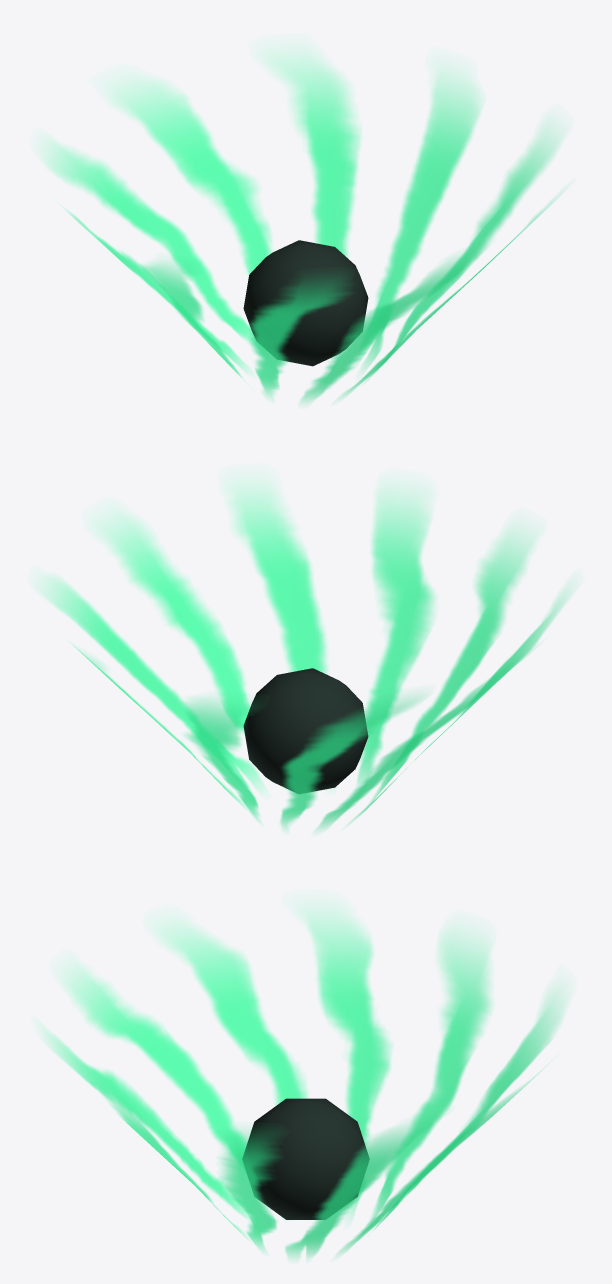
Rendered from fx_vortex.glb.
3 views of the same model, one above another, from view 1: azimuth 30°, elevation 25°; view 2: azimuth 150°, elevation 25°; view 3: azimuth 270°, elevation 25° (orthographic).
Parts seen in each view (by area): view 1: Funnel, Core; view 2: Funnel, Core; view 3: Funnel, Core.
Part boxes in pixels (x1,y1,x2,y2): Funnel: (45,55,560,403); Core: (243,240,368,366); Funnel: (43,486,569,830); Core: (243,668,368,793); Funnel: (45,911,563,1258); Core: (242,1098,369,1219).
Size of what is drawn, in the model's own units: 3.2 by 1.55 by 3.2.
Materials: 2 (1 with a texture image).
